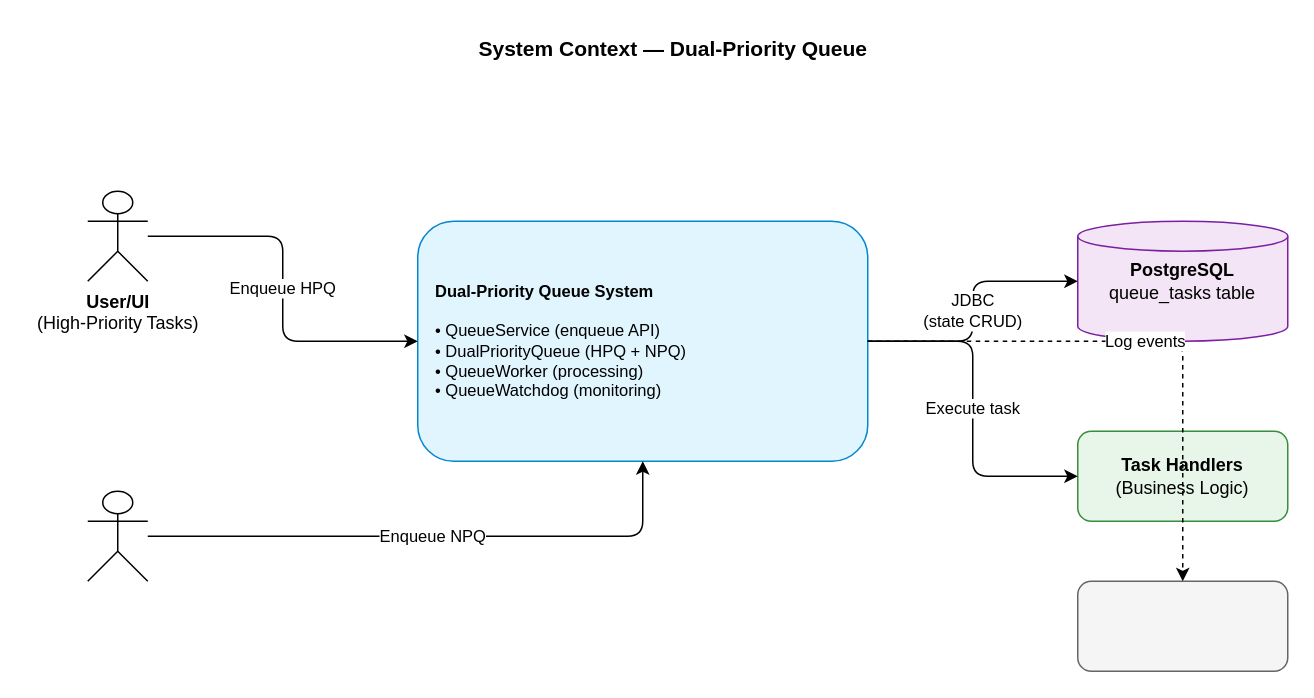
Some shapes in this 1314 by 698 pixel diagram are drawn without their labels. Here are the shapes that lost their labels. From the top down, the centre of each, then its label:
At (117,535): "System/Batch (Normal-Priority Tasks)".
At (1182,625): "Logging (Logback)".
